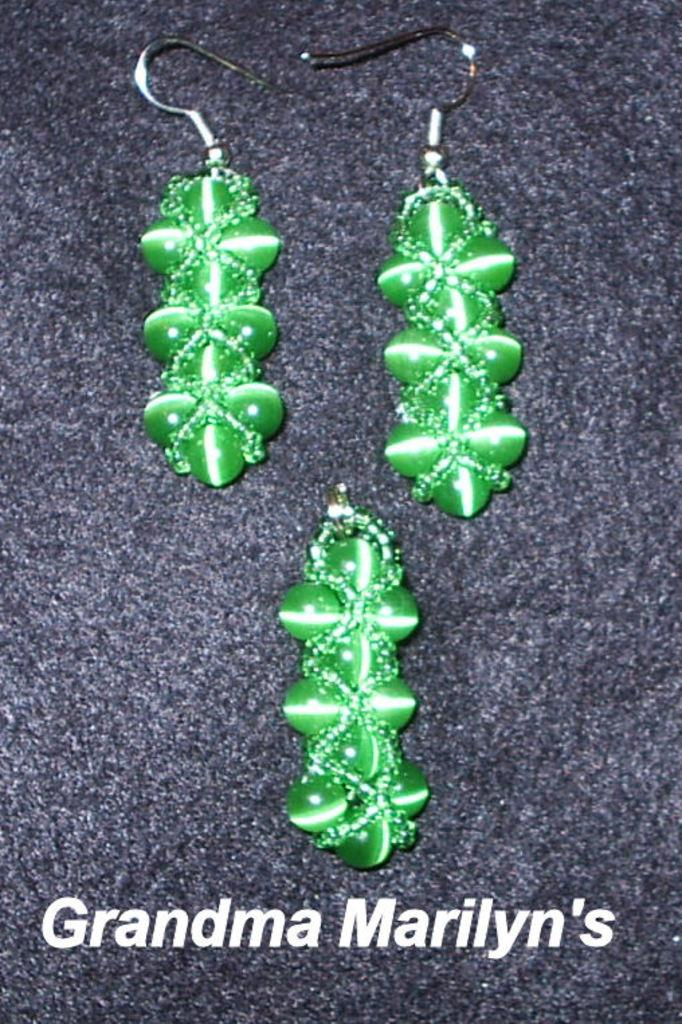earring: (300, 28, 533, 519), (134, 30, 298, 486), (273, 475, 427, 868)
